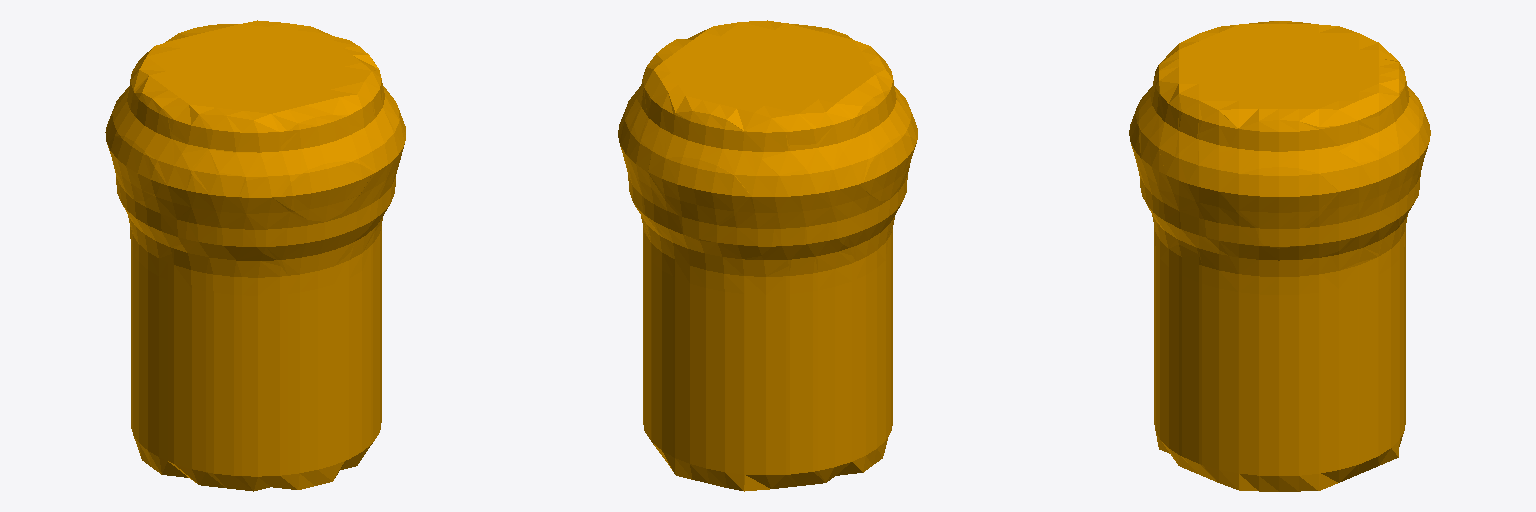
URDF robot description (cylinder_../../meshes/cylinders/cylinder_27.stl):
<?xml version="1.0" encoding="utf-8"?>  <robot name="cylinder_../../meshes/cylinders/cylinder_27.stl">   <link name="cylinder_../../meshes/cylinders/cylinder_27.stl">     <visual>       <geometry>         <mesh filename="../meshes/cylinders/cylinder_27.stl" scale="1 1 1"/>       </geometry>     </visual>     <collision>       <geometry>         <mesh filename="../meshes/cylinders/cylinder_27.stl" scale="1 1 1"/>       </geometry>     </collision>     <inertial>        <origin         xyz="0 0 0"         rpy="0 0 0" />       <mass value="0.3437648416601997"/>       <origin rpy="0 0 0" xyz="0 0 0"/>       <inertia ixx="0.00039371176049983654" ixy="-6.429623160959936e-09" ixz="5.025108147919679e-08" iyy="0.0003937106715358572" iyz="3.1278311048184826e-08" izz="0.00018534120965581915"/>     </inertial>   </link>  </robot>

--- What the picture shows (computed from the rendered views, not written in the file) ---
The picture shows the robot from 3 angles, left to right: view 1: azimuth 30°, elevation 25°; view 2: azimuth 150°, elevation 25°; view 3: azimuth 270°, elevation 25°; orthographic projection.
Model cylinder_../../meshes/cylinders/cylinder_27.stl with 1 links and 0 joints (none), rooted at cylinder_../../meshes/cylinders/cylinder_27.stl, posed every joint at zero.
Visible links, largest first — view 1: cylinder_../../meshes/cylinders/cylinder_27.stl; view 2: cylinder_../../meshes/cylinders/cylinder_27.stl; view 3: cylinder_../../meshes/cylinders/cylinder_27.stl.
Boxes of the visible links, box(x1,y1,x2,y2) form: cylinder_../../meshes/cylinders/cylinder_27.stl: box(105, 20, 405, 491); cylinder_../../meshes/cylinders/cylinder_27.stl: box(618, 20, 917, 491); cylinder_../../meshes/cylinders/cylinder_27.stl: box(1129, 21, 1430, 491).
Bounding box of the posed robot: 0.0755 × 0.0755 × 0.1032 m (x, y, z).
1 mesh visuals loaded from 1 distinct referenced files (1 binary STL).